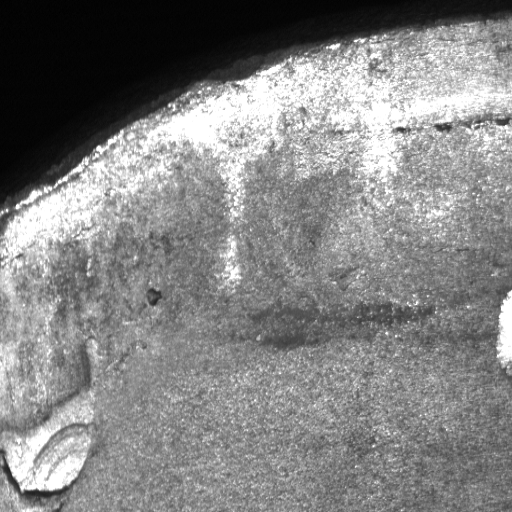aokeng: (2, 339, 102, 498)
